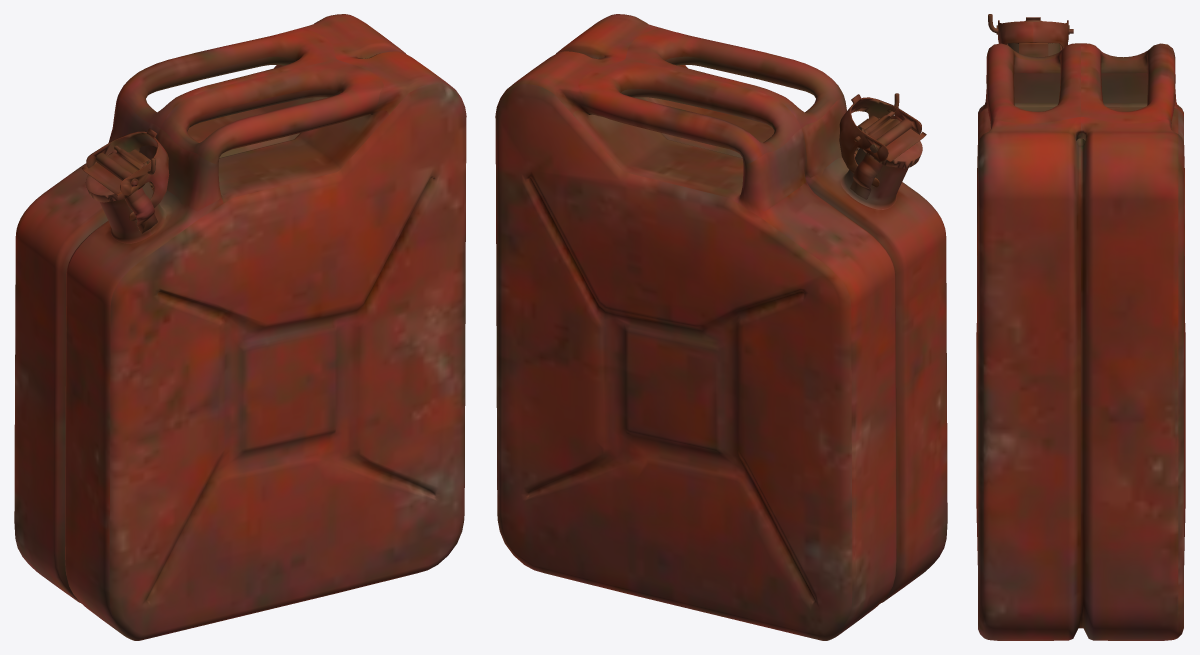
Rendered from metal_jerrycan.glb.
The picture shows the model from 3 angles, left to right: view 1: azimuth 30°, elevation 25°; view 2: azimuth 150°, elevation 25°; view 3: azimuth 270°, elevation 25°; orthographic projection. The views are drawn at different scales.
Parts seen in each view (by area): view 1: metal_jerrycan; view 2: metal_jerrycan; view 3: metal_jerrycan.
Part boxes in pixels (x1,y1,x2,y2): metal_jerrycan: [14, 14, 466, 640]; metal_jerrycan: [495, 14, 947, 640]; metal_jerrycan: [976, 14, 1185, 640].
Bounding box in the file's own units: 0.3503 × 0.4552 × 0.1718.
Materials: 1 (1 with a texture image).
